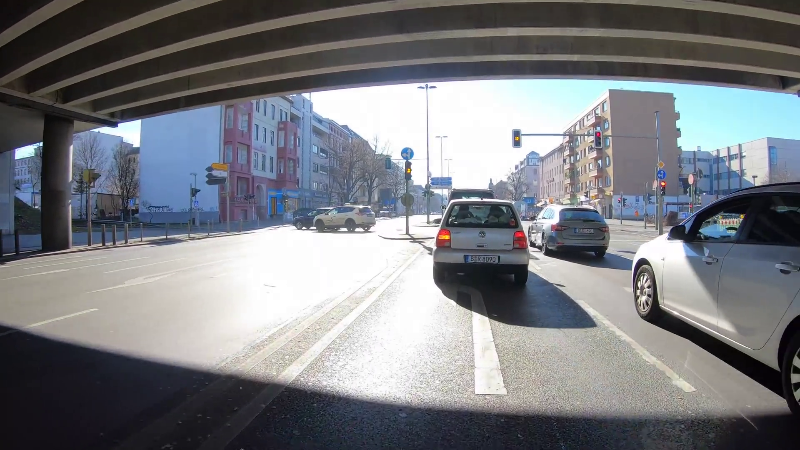Plate: (461, 254, 500, 264), (574, 226, 594, 235)
